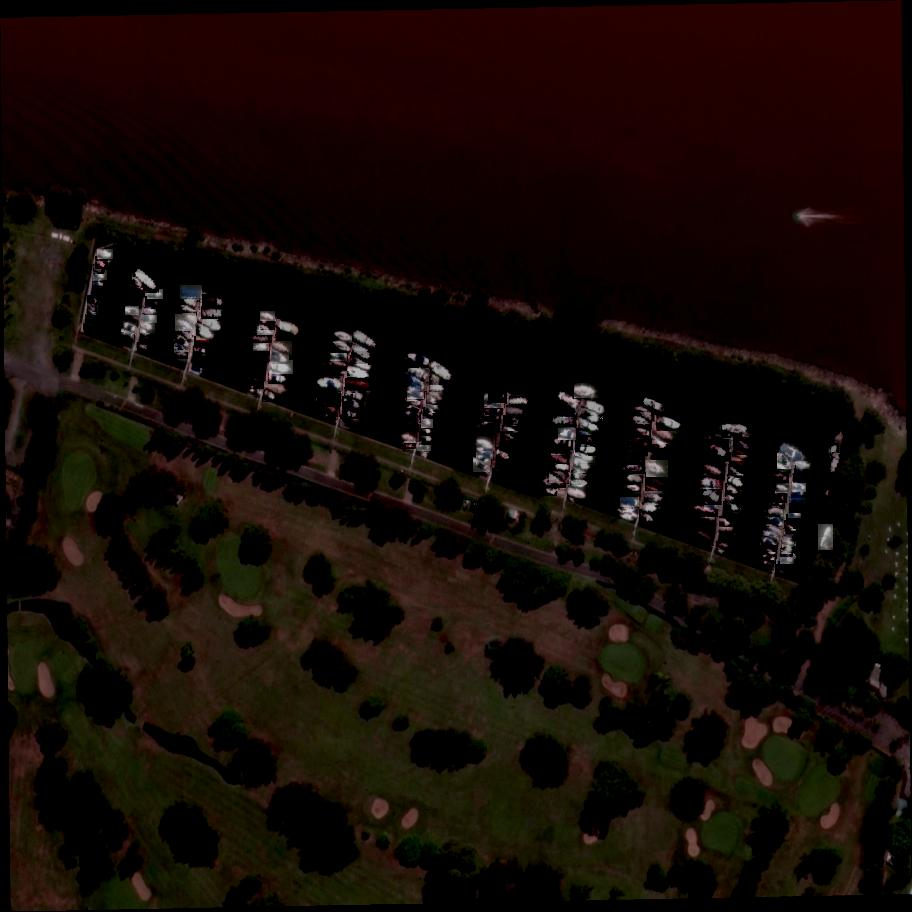ship: (779, 439, 811, 466), (132, 267, 162, 294), (479, 372, 515, 394), (430, 357, 459, 384), (353, 329, 383, 353), (346, 362, 377, 385), (555, 387, 583, 412), (314, 393, 341, 418), (197, 312, 226, 335), (705, 440, 732, 463), (641, 395, 670, 416), (351, 343, 377, 366), (698, 483, 724, 506), (316, 385, 342, 407), (578, 414, 604, 436), (652, 424, 678, 446), (274, 320, 302, 340), (581, 397, 609, 417), (579, 404, 604, 426), (407, 350, 434, 370), (632, 402, 657, 423), (728, 452, 751, 474), (348, 355, 376, 373), (690, 527, 715, 547), (720, 422, 751, 438), (700, 463, 726, 482), (644, 473, 670, 492), (819, 524, 837, 551), (175, 314, 197, 336), (733, 436, 757, 456), (655, 415, 682, 432), (630, 413, 654, 432), (341, 396, 366, 414), (576, 429, 600, 447), (646, 461, 670, 479), (566, 486, 591, 503), (824, 480, 843, 502), (408, 364, 430, 383), (486, 385, 508, 404), (574, 440, 600, 456), (545, 450, 571, 466), (405, 375, 428, 393), (269, 361, 294, 377), (631, 432, 651, 452), (485, 392, 506, 411), (549, 466, 570, 485), (196, 323, 218, 341), (572, 456, 594, 474), (499, 432, 522, 449), (343, 387, 367, 403), (181, 292, 201, 311), (316, 378, 343, 392), (693, 503, 720, 517), (574, 384, 599, 399), (331, 337, 353, 354), (631, 424, 654, 440), (202, 295, 228, 309), (245, 372, 265, 390), (827, 454, 842, 478), (555, 404, 579, 419), (502, 425, 524, 441), (202, 305, 227, 319), (552, 435, 575, 450), (650, 438, 673, 453), (766, 512, 785, 530), (264, 383, 290, 396), (476, 436, 497, 452), (270, 350, 291, 366), (273, 341, 294, 357), (250, 348, 271, 364), (761, 528, 782, 544), (639, 510, 660, 526), (333, 328, 355, 343), (480, 410, 502, 425), (574, 450, 596, 465), (698, 477, 723, 490), (175, 332, 193, 350), (403, 408, 422, 425), (427, 387, 446, 404), (769, 487, 788, 504), (776, 452, 795, 469), (400, 416, 420, 432), (727, 475, 747, 491), (731, 446, 751, 462), (496, 447, 516, 463), (345, 379, 374, 390), (404, 394, 425, 409), (324, 359, 348, 372), (473, 458, 492, 474), (643, 492, 666, 505), (786, 514, 803, 531), (399, 432, 418, 447), (728, 465, 747, 480), (627, 453, 646, 468), (553, 415, 576, 427), (417, 432, 435, 447), (140, 319, 158, 334), (771, 471, 790, 485), (761, 537, 780, 551), (558, 427, 577, 441), (180, 286, 202, 298), (480, 421, 500, 434), (506, 405, 526, 418), (262, 388, 279, 403), (259, 317, 276, 332), (570, 478, 591, 490), (406, 387, 426, 399), (421, 414, 437, 429), (247, 368, 267, 380), (780, 540, 796, 555), (784, 521, 800, 536), (476, 453, 493, 467), (145, 296, 162, 310), (725, 484, 742, 498), (405, 404, 423, 417), (477, 446, 495, 459), (764, 523, 782, 536), (551, 445, 572, 456), (123, 320, 139, 334), (776, 460, 792, 474), (762, 545, 778, 559), (760, 553, 777, 566), (541, 483, 558, 496), (509, 396, 529, 407), (571, 470, 591, 481), (543, 477, 565, 487), (504, 415, 522, 427), (767, 506, 785, 518), (423, 407, 438, 421), (426, 401, 441, 415), (722, 501, 741, 512), (630, 445, 649, 456), (259, 311, 276, 323), (788, 503, 805, 515), (791, 481, 808, 493), (251, 333, 271, 343), (269, 373, 287, 384), (246, 386, 264, 397), (195, 336, 213, 347), (775, 564, 789, 578), (95, 257, 110, 270), (793, 474, 809, 486), (341, 409, 360, 419), (620, 498, 639, 508), (486, 405, 503, 416), (147, 289, 164, 300), (253, 341, 270, 352), (121, 329, 136, 341), (93, 271, 108, 283), (419, 426, 435, 437), (182, 305, 198, 316), (786, 511, 802, 522), (704, 498, 720, 509), (626, 464, 645, 473), (642, 503, 659, 513), (97, 250, 114, 260), (324, 411, 338, 423), (131, 280, 145, 292), (719, 516, 734, 527), (782, 530, 797, 541), (791, 488, 806, 499), (330, 352, 348, 361), (416, 443, 432, 453), (429, 383, 445, 393), (427, 394, 440, 406), (699, 515, 716, 524), (83, 319, 95, 331), (258, 326, 274, 335), (830, 444, 839, 460), (779, 556, 795, 565), (763, 561, 776, 572), (136, 343, 150, 353), (775, 483, 789, 493), (781, 537, 795, 547), (125, 306, 140, 315), (142, 314, 157, 323), (174, 344, 189, 353), (126, 289, 145, 296), (94, 264, 106, 275), (84, 314, 97, 324), (87, 296, 100, 306), (430, 376, 446, 384), (554, 464, 570, 472), (717, 542, 731, 551), (794, 468, 808, 477), (627, 483, 641, 492), (796, 461, 811, 469), (86, 303, 99, 312), (92, 279, 105, 288), (183, 313, 196, 322), (193, 346, 207, 354), (493, 469, 509, 476), (644, 487, 662, 493), (720, 526, 735, 533), (145, 307, 158, 315), (791, 496, 805, 503), (180, 330, 192, 338), (725, 494, 737, 502), (778, 561, 790, 569), (173, 352, 188, 358), (140, 328, 151, 336), (781, 549, 792, 557), (772, 500, 784, 507), (628, 476, 642, 482), (404, 443, 416, 449), (87, 309, 97, 315)
small-vehicle: (464, 500, 473, 513), (472, 502, 478, 512)
